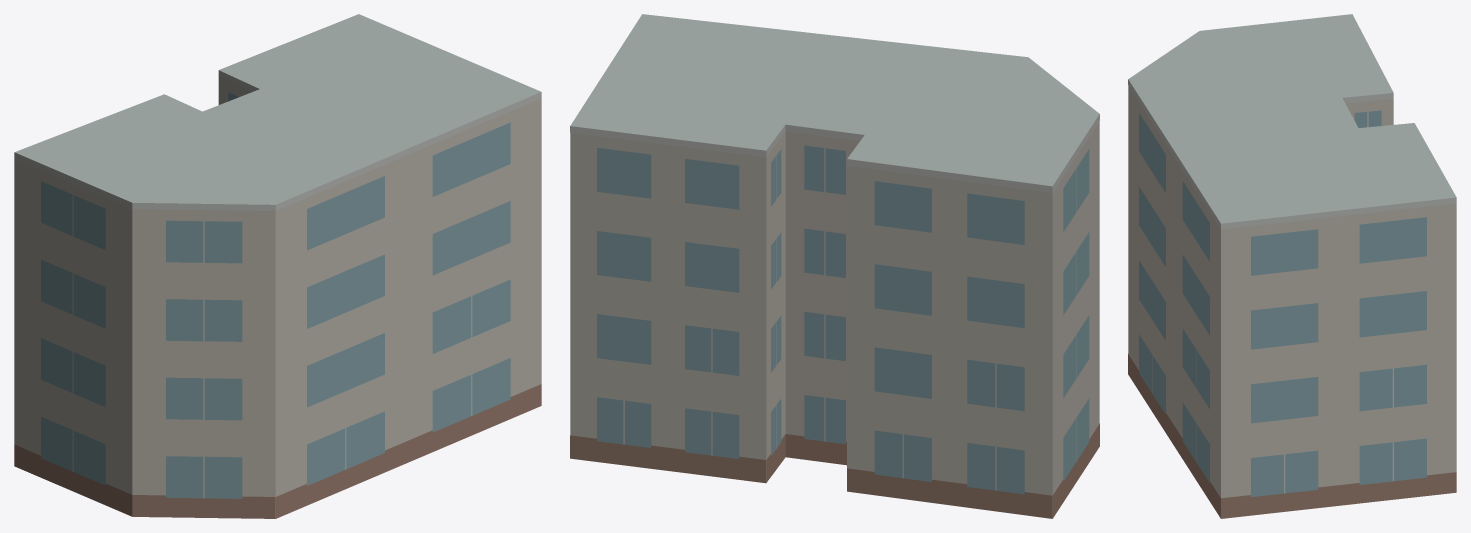
Rendered from survey-upis-32945214.glb.
3 renders of one model, left to right at view 1: azimuth 30°, elevation 25°; view 2: azimuth 150°, elevation 25°; view 3: azimuth 270°, elevation 25°, orthographic. The views are drawn at different scales.
Parts seen in each view (by area): view 1: survey-upis-32945214.tmp; view 2: survey-upis-32945214.tmp; view 3: survey-upis-32945214.tmp.
Part boxes in pixels (left/top/right/bottom): survey-upis-32945214.tmp: left=14, top=14, right=541, bottom=518; survey-upis-32945214.tmp: left=570, top=14, right=1099, bottom=518; survey-upis-32945214.tmp: left=1128, top=14, right=1456, bottom=518.
Size of the model in its own units: 18.6 by 12.2 by 12.32.
